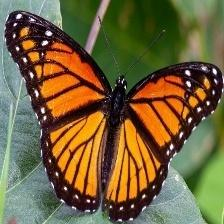butterfly: (6, 12, 224, 222)
